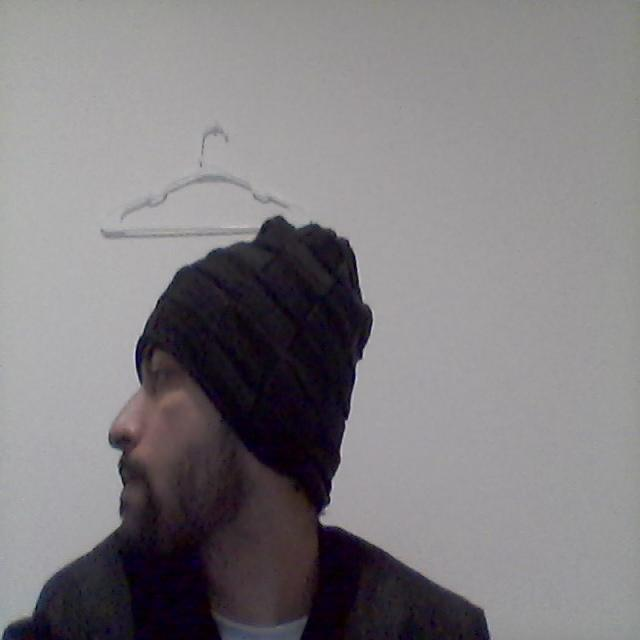cap: (108, 191, 390, 477)
